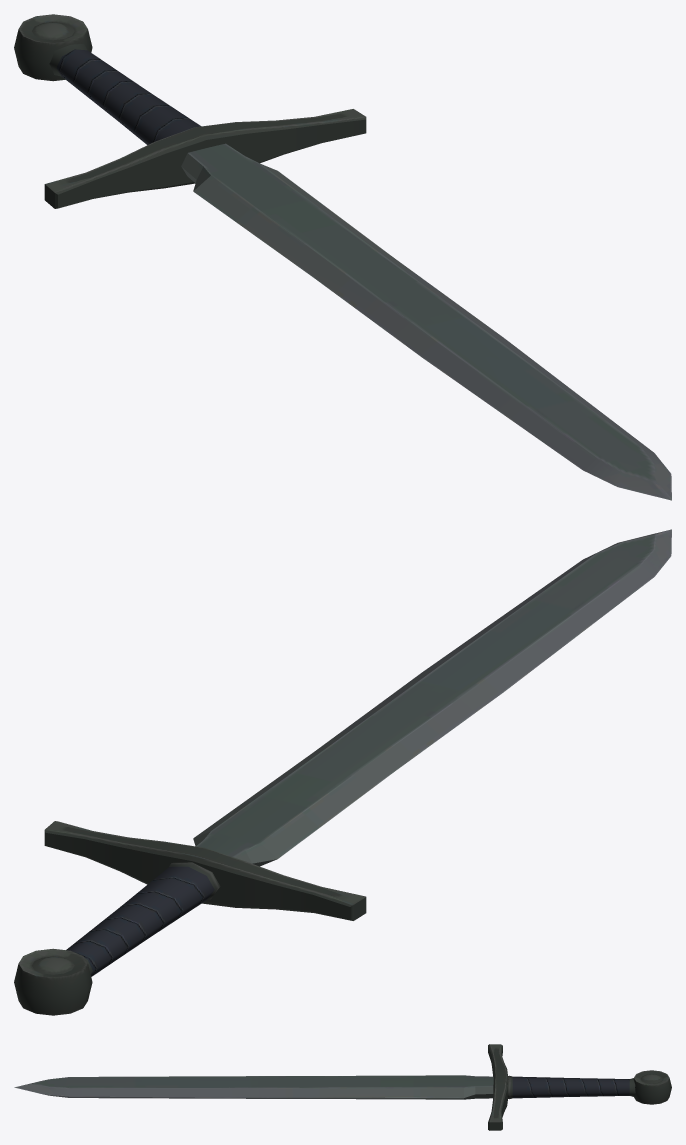
The model's file is Weapon_Sword_002.glb.
The picture shows the model from 3 angles, top to bottom: view 1: azimuth 30°, elevation 25°; view 2: azimuth 150°, elevation 25°; view 3: azimuth 270°, elevation 25°; orthographic projection. The views are drawn at different scales.
Parts seen in each view (by area): view 1: Weapon_Sword_002; view 2: Weapon_Sword_002; view 3: Weapon_Sword_002.
Boxes of the visible parts, x1,y1,x2,y2 form: Weapon_Sword_002: (14,14,671,500); Weapon_Sword_002: (14,529,671,1015); Weapon_Sword_002: (14,1044,671,1130).
Bounding box in the file's own units: 0.3096 × 0.0447 × 1.1.
1 material, 1 textured.
